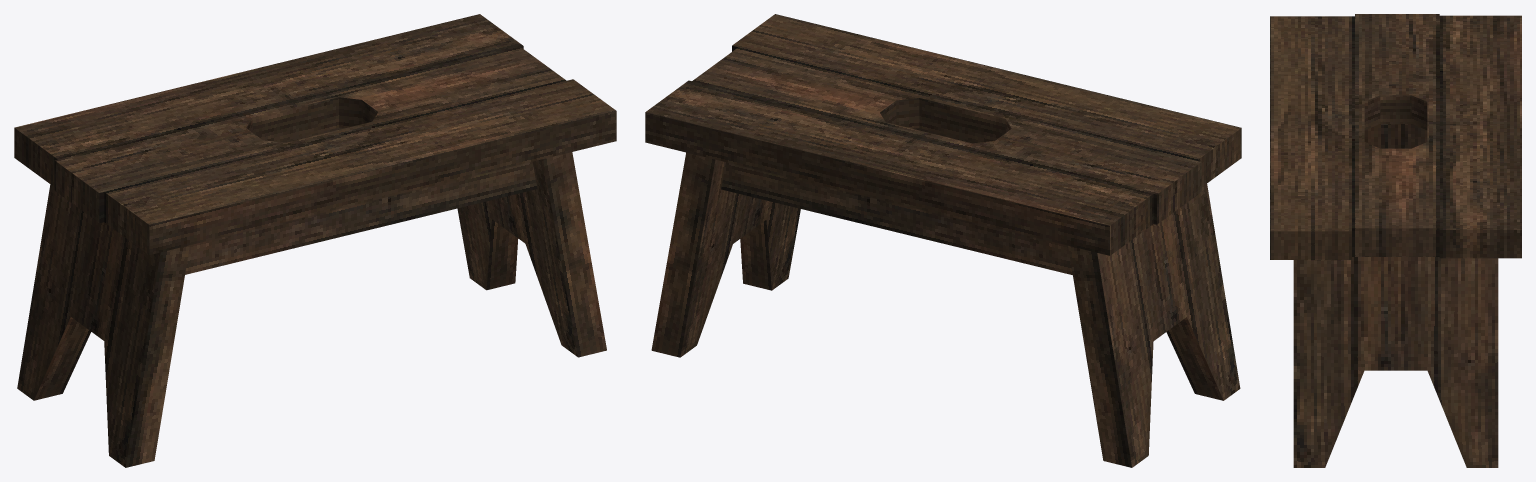
The model's file is stool_mx_1.glb.
3 views of the same model, side by side, from view 1: azimuth 30°, elevation 25°; view 2: azimuth 150°, elevation 25°; view 3: azimuth 270°, elevation 25° (orthographic). The views are drawn at different scales.
Visible parts, largest first — view 1: stool_mx_1; view 2: stool_mx_1; view 3: stool_mx_1.
Part boxes in pixels (<box>): stool_mx_1: <box>14,14,616,467</box>; stool_mx_1: <box>645,14,1241,467</box>; stool_mx_1: <box>1270,14,1521,467</box>.
Size of the model in its own units: 0.6665 by 0.33 by 0.32.
Materials: 1 (1 with a texture image).
